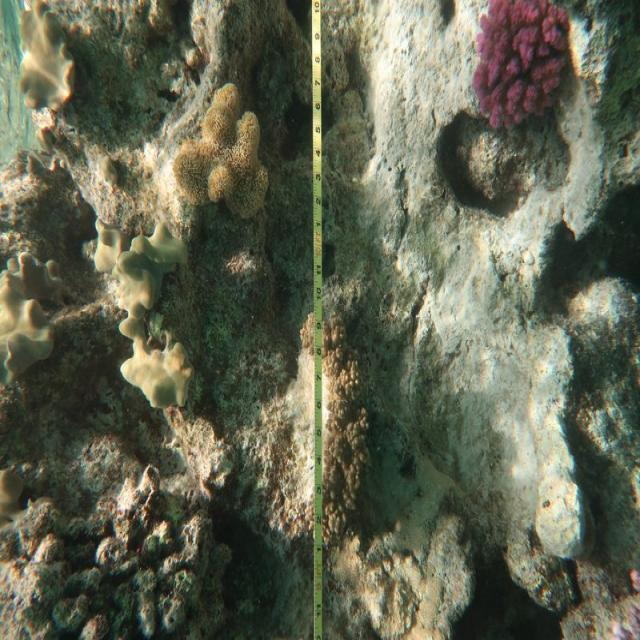Dead Coral: (50, 490, 257, 639)
Healthy Coral: (470, 1, 581, 139), (171, 86, 271, 223)
